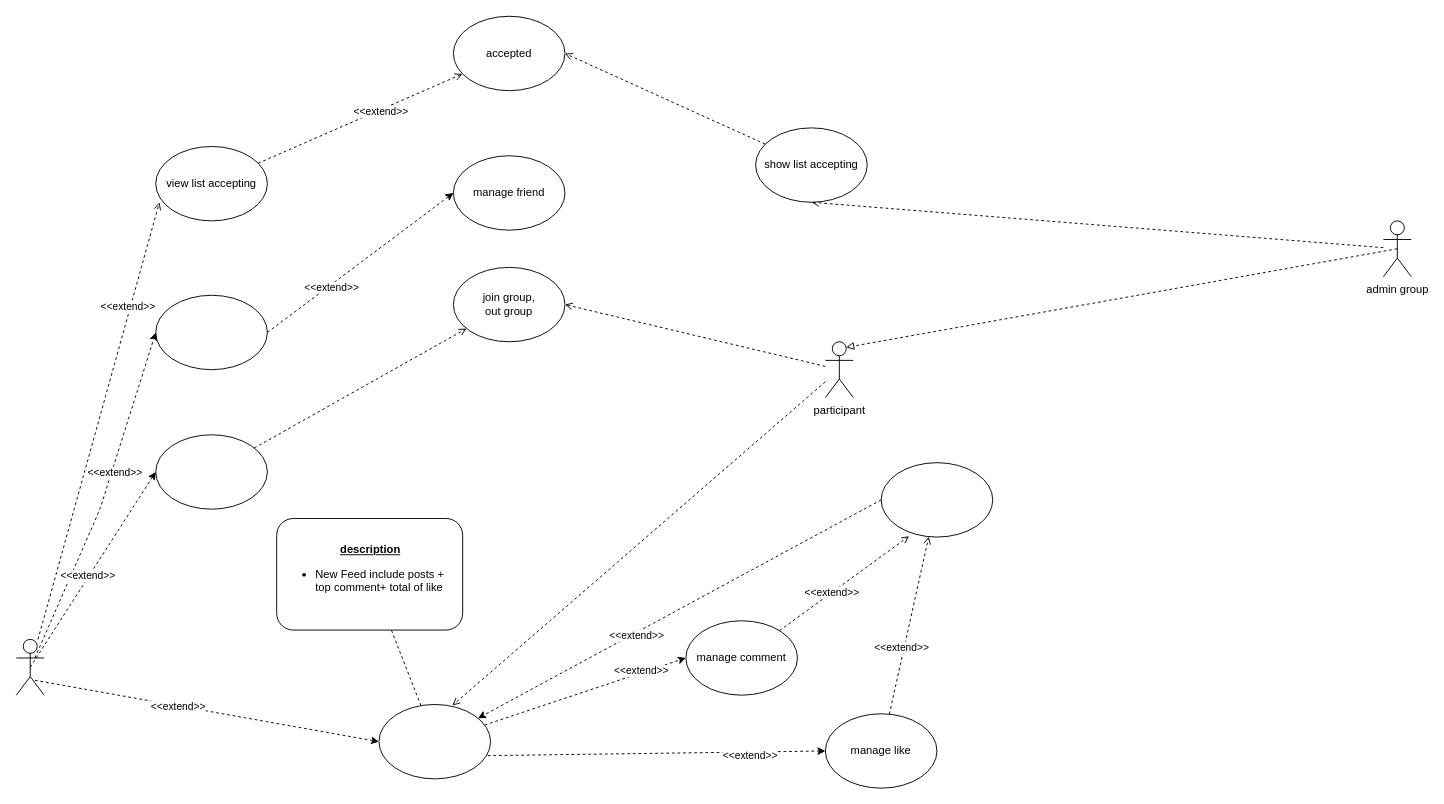
The diagram is 1444 pixels wide and 804 high, and some of its shapes have lost their labels. Each missing label, with the centre of its shape:
manage post: (x=936, y=499)
search friend: (x=211, y=332)
search group: (x=211, y=471)
user: (x=29, y=666)
view new feeds: (x=434, y=741)
